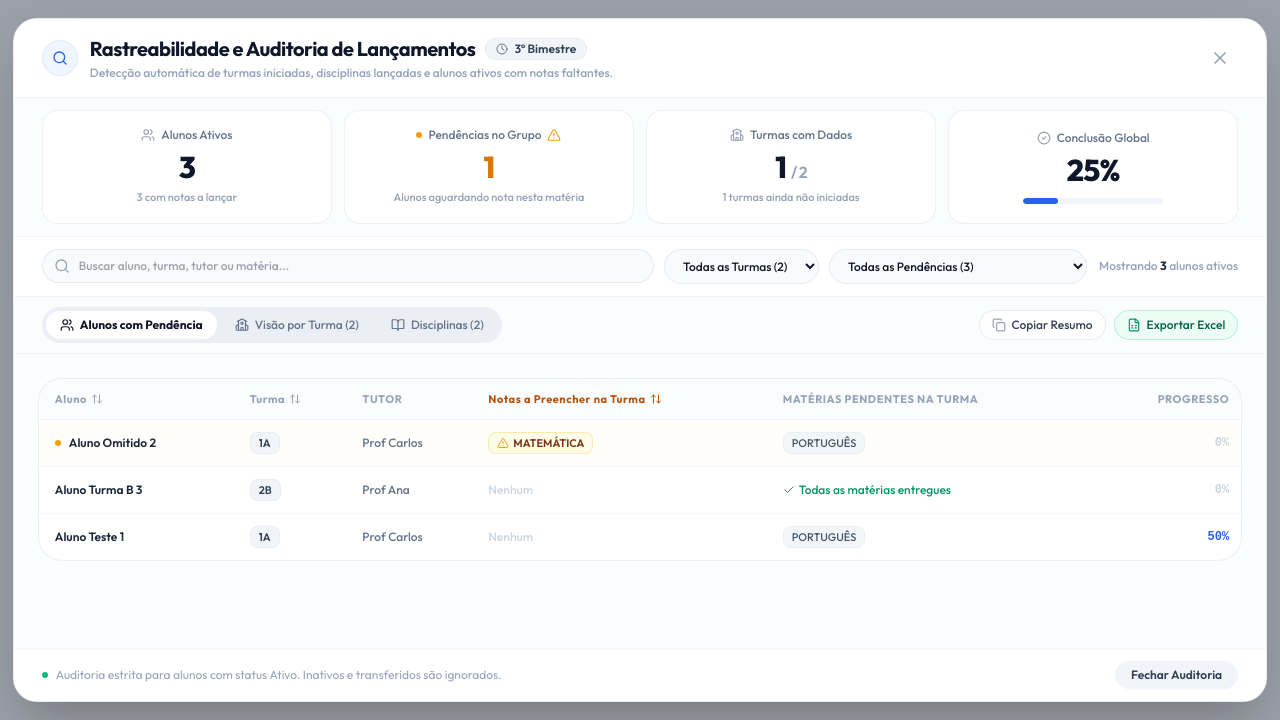
Test case: LaunchTraceabilityModal — Rastreabilidade e Auditoria de Lançamentos › atualiza dinamicamente os 4 cards de KPIs ao selecionar uma turma específica
Expected: the text "Alunos Ativos" is shown, [161,127,232,143]
Expected: the text "Pendências no Grupo" is shown, [428,127,541,143]
Note: Seleciona a Turma 1A no dropdown
Select "Turma 1A" in the dropdown named "Filtrar por Turma" at (742, 266), box [664,249,819,284]
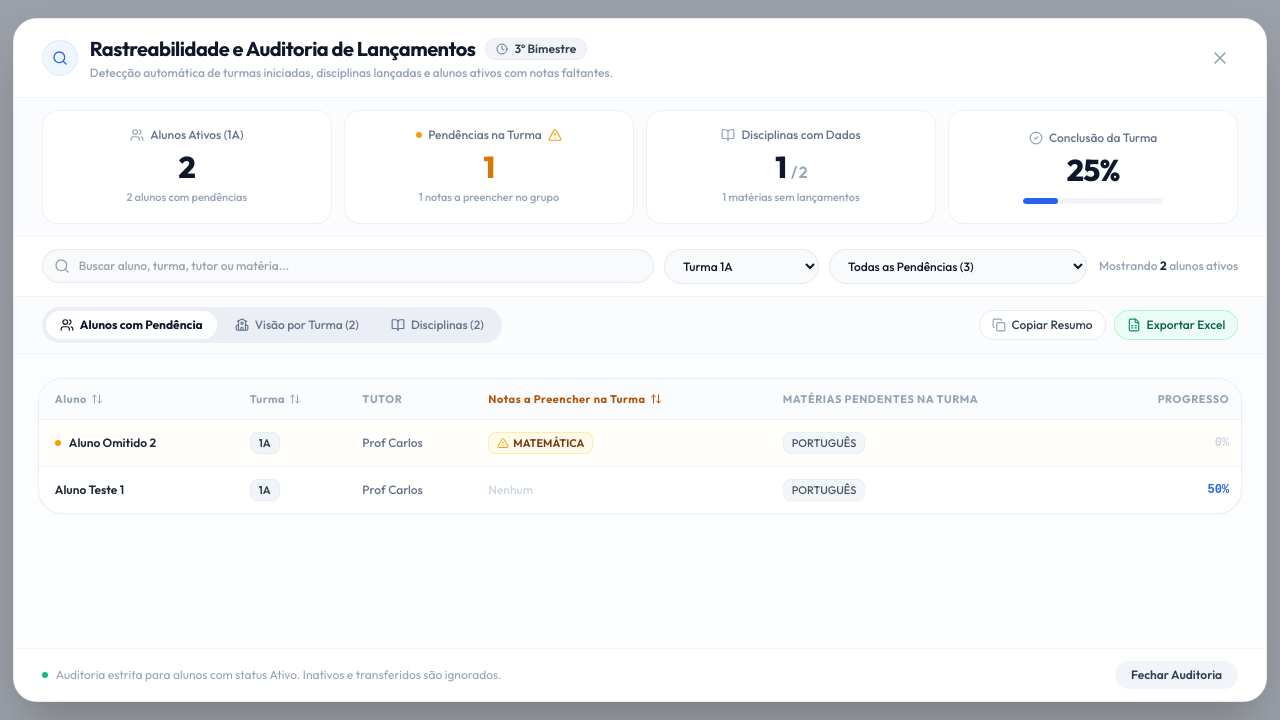
Result: the text "Alunos Ativos (1A)" is shown at [150,127,244,143]
Result: the text "Pendências na Turma" is shown at [428,127,542,143]
Result: the text "Disciplinas com Dados" is shown at [742,127,861,143]
